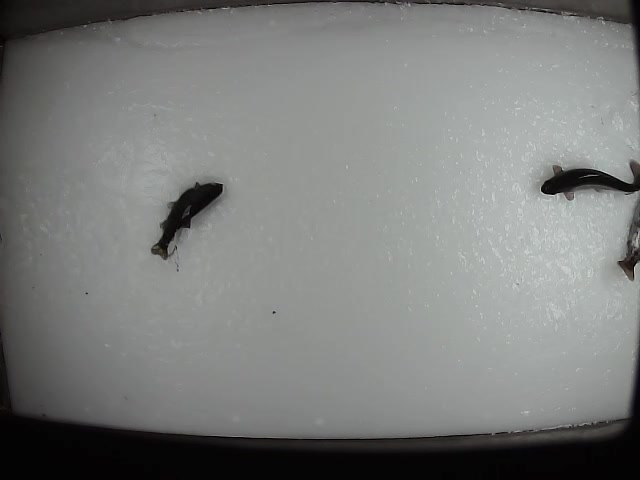Fish: (150, 182, 223, 260)
